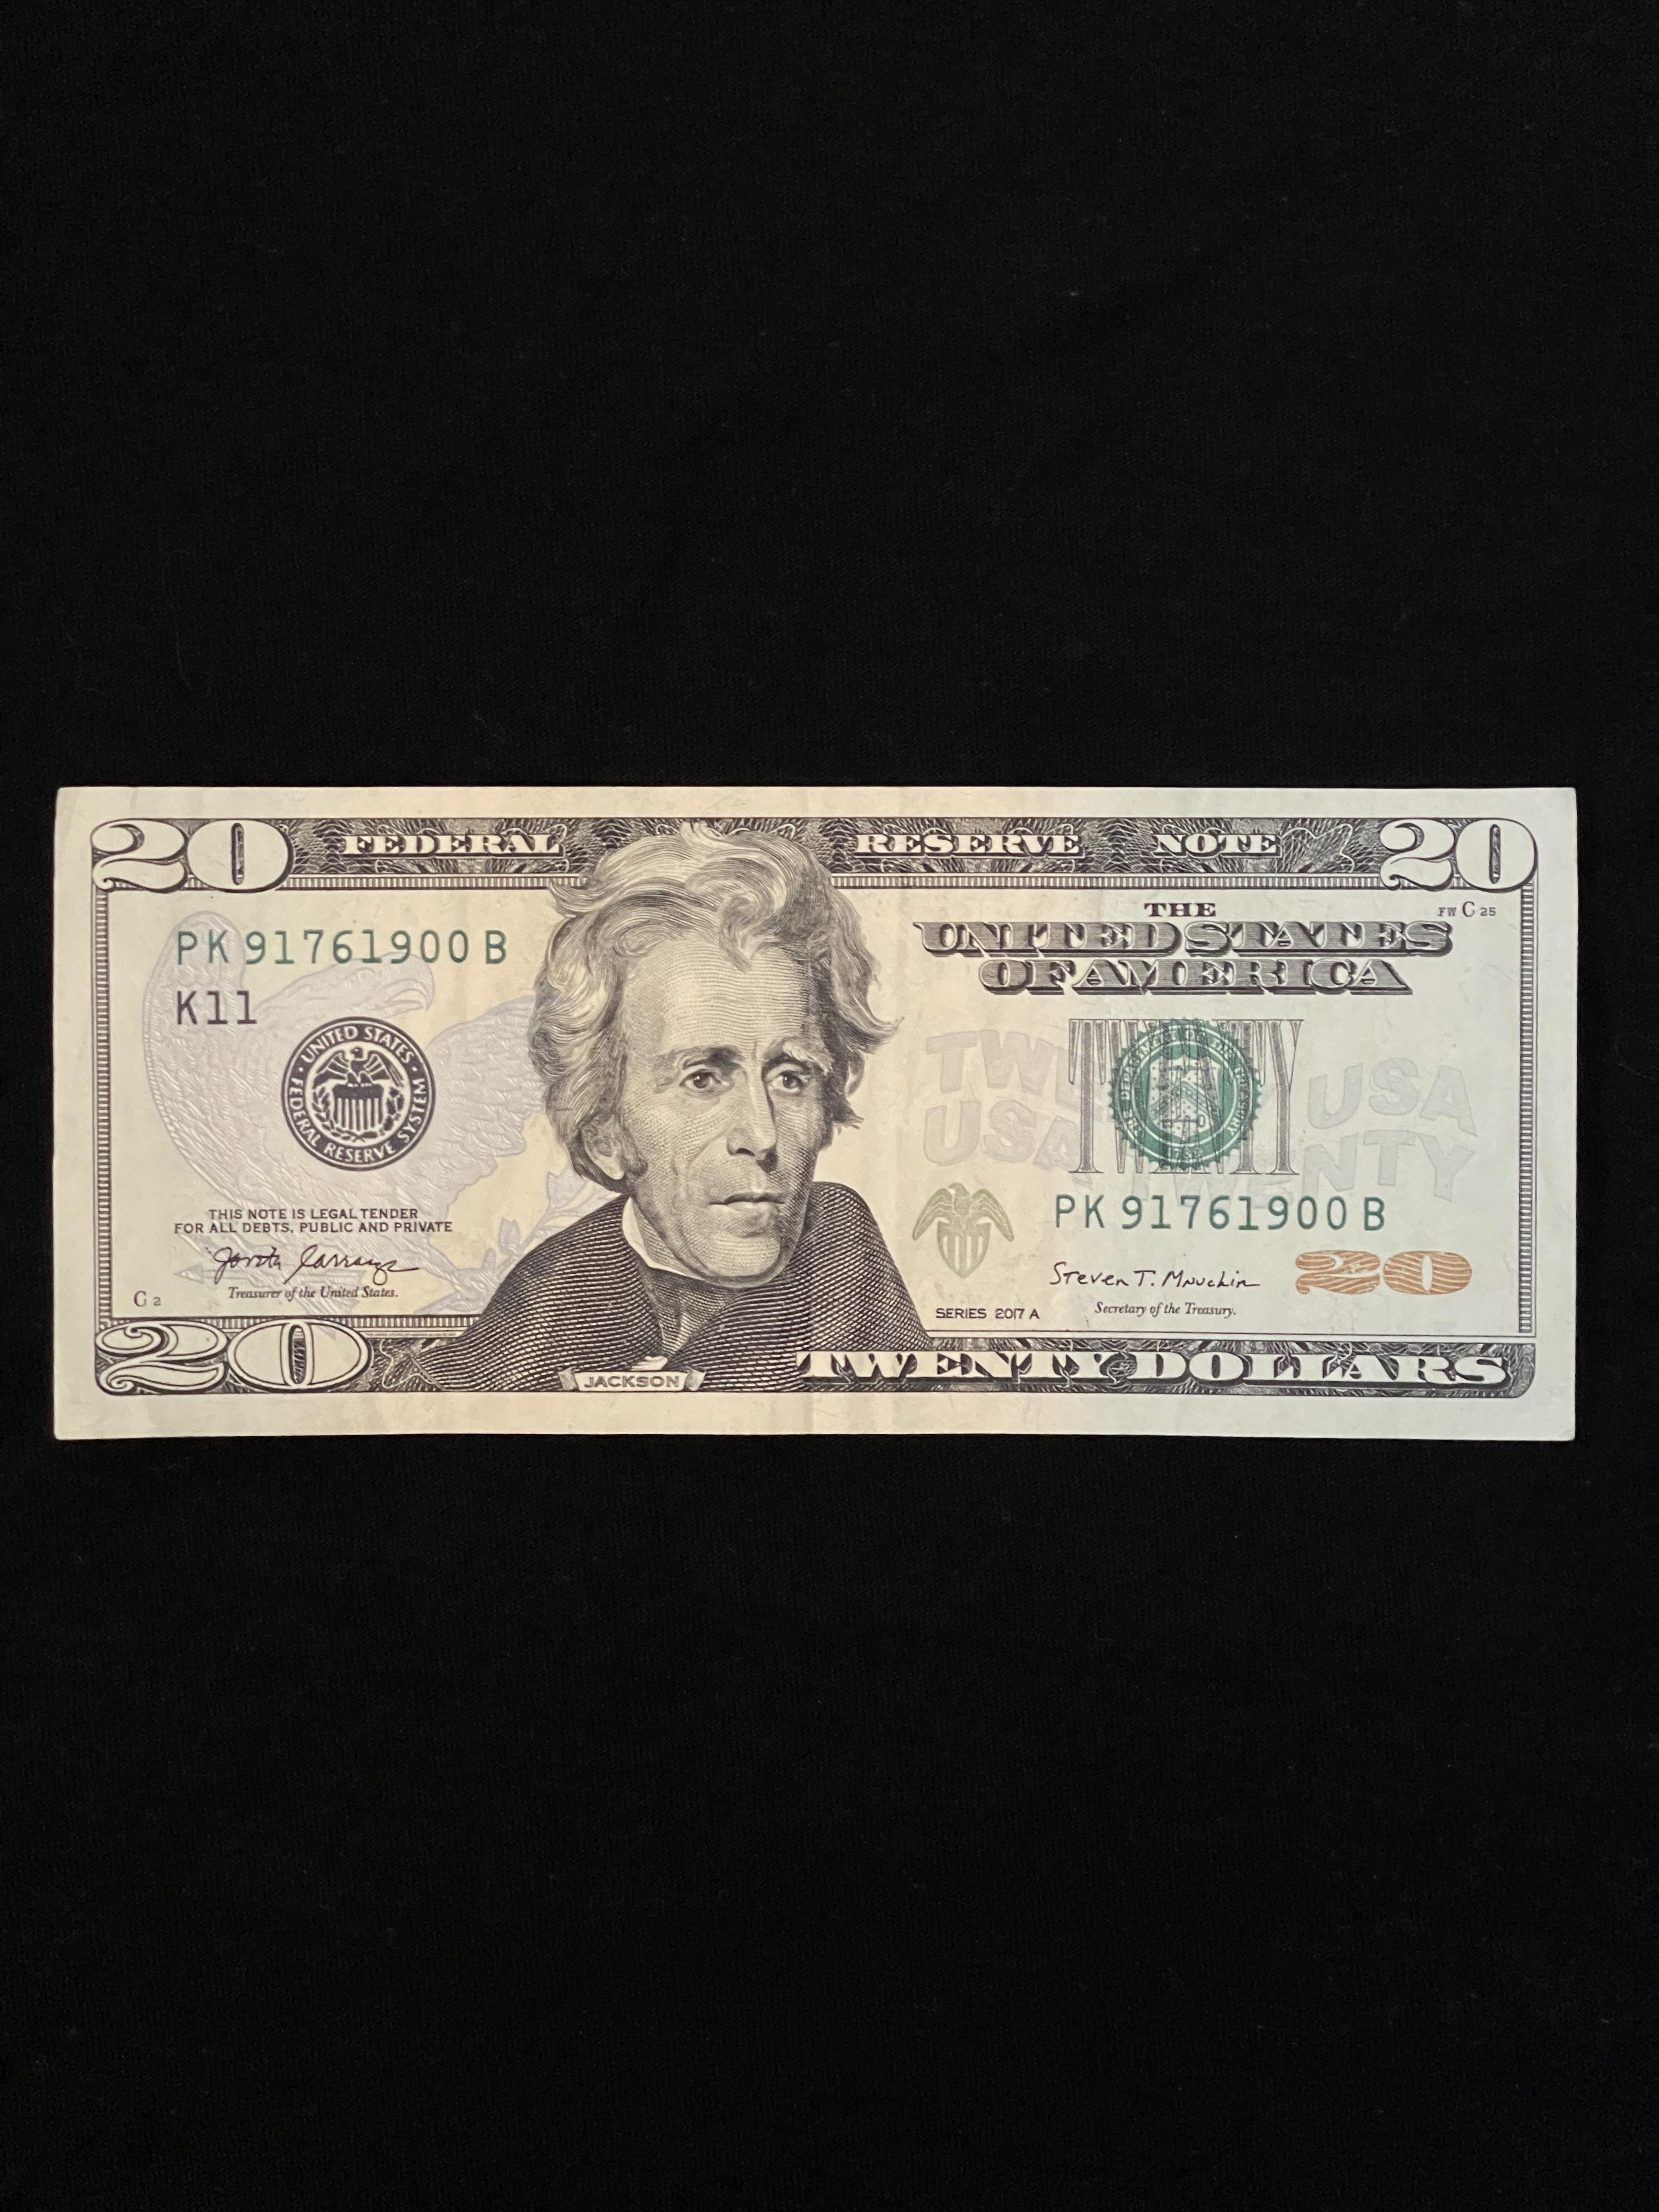TwentyBill: (45, 780, 1593, 1446)
